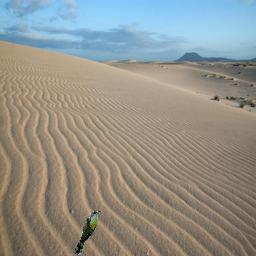Cuckoo: (74, 211, 101, 255)
